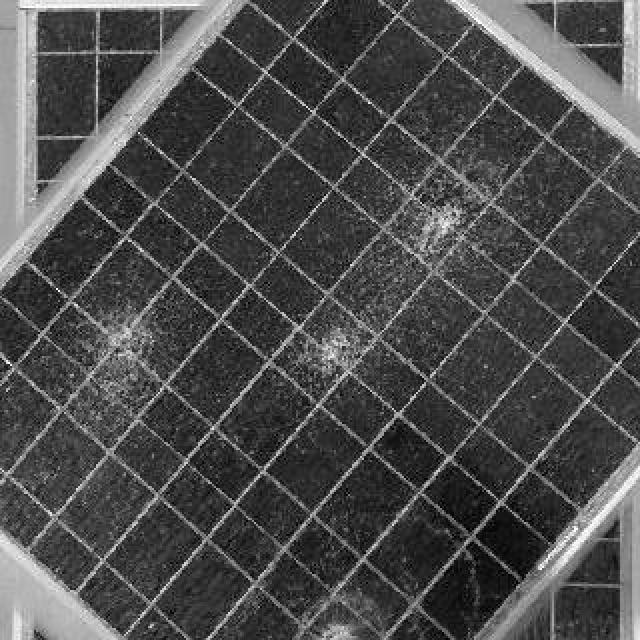Dusty: (301, 310, 375, 402), (442, 180, 500, 282), (95, 312, 165, 392), (295, 598, 379, 640)
